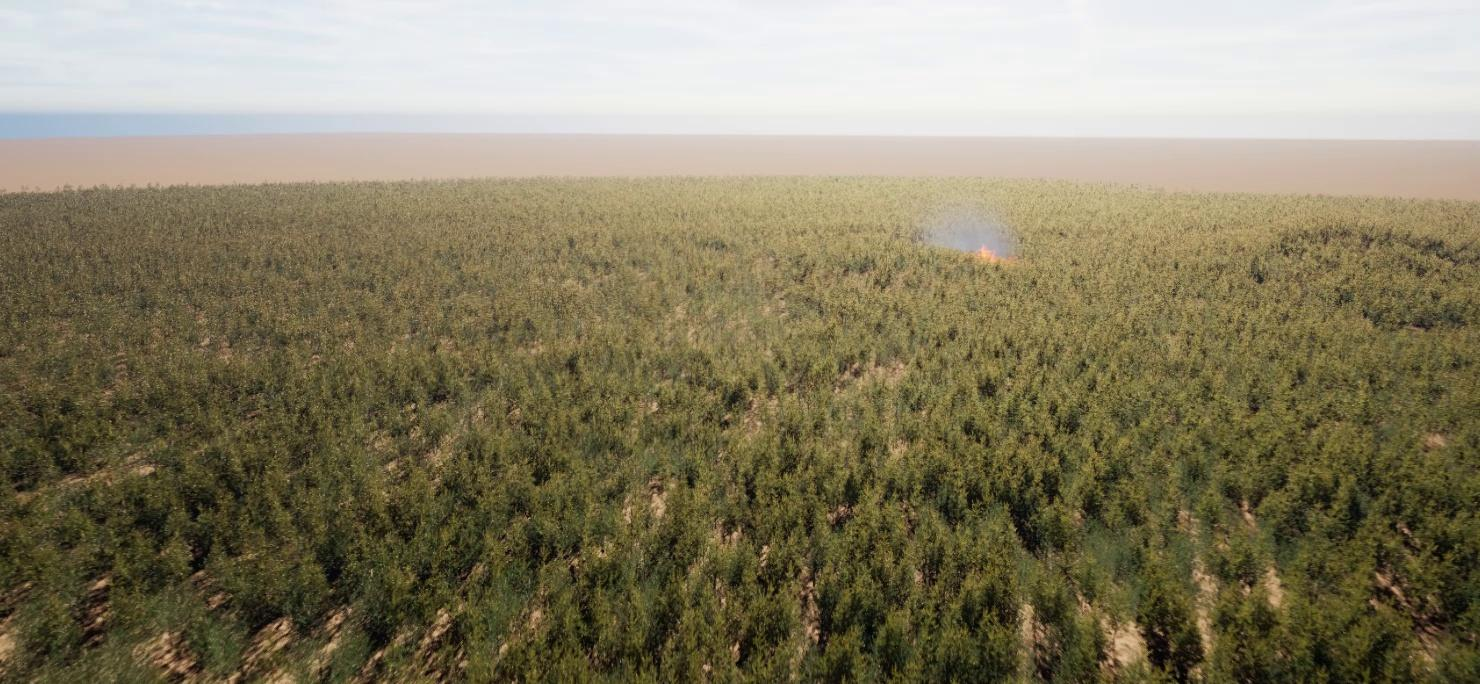fire: (974, 240, 1003, 261)
smoke: (922, 197, 1021, 273)
